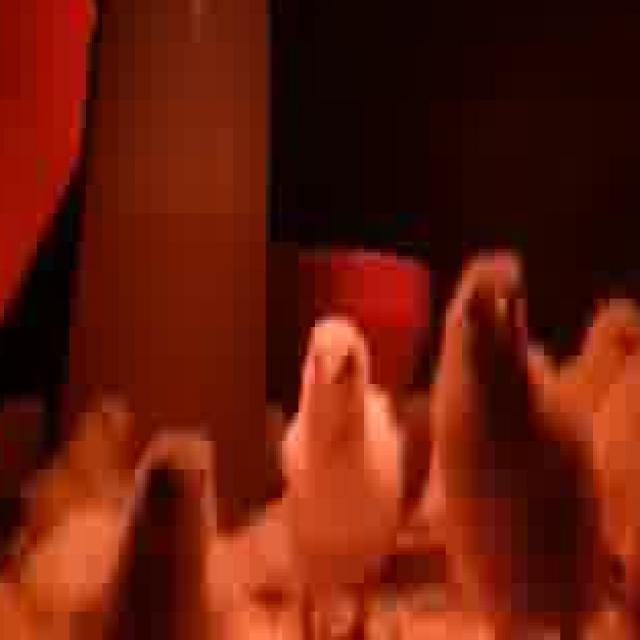poussin: (425, 252, 594, 640), (268, 311, 396, 632), (91, 424, 222, 640)
